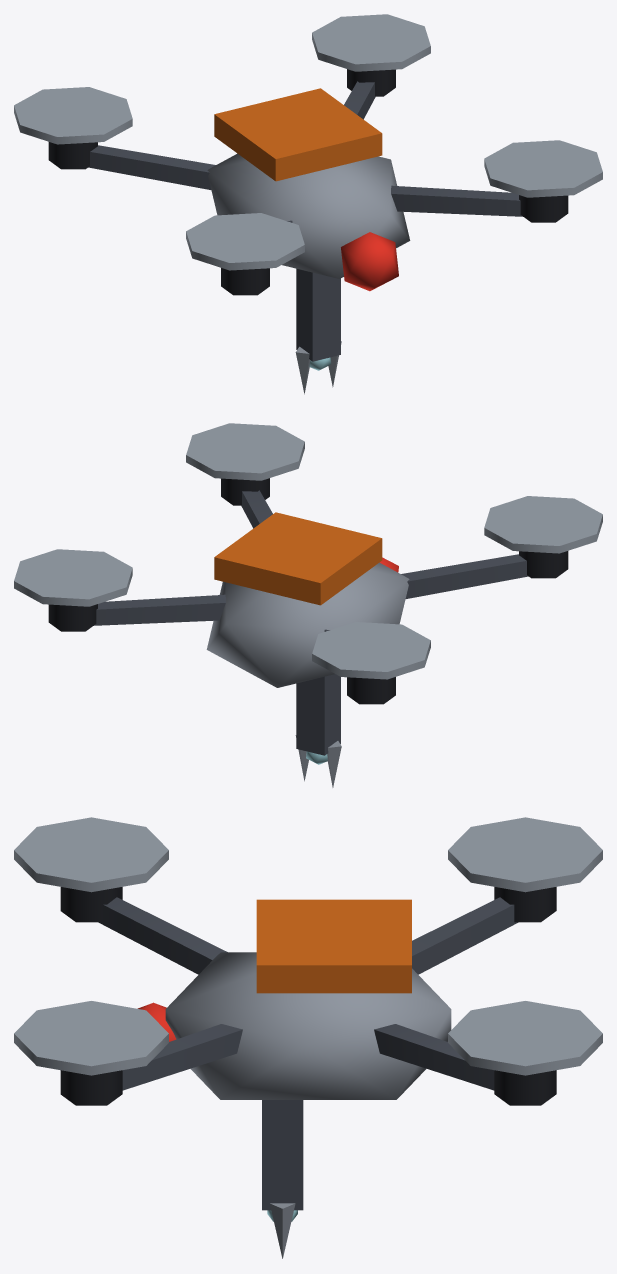
File: e_maschinen_drohne.glb
3 views of the same model, one above another, from view 1: azimuth 30°, elevation 25°; view 2: azimuth 150°, elevation 25°; view 3: azimuth 270°, elevation 25° (orthographic). The views are drawn at different scales.
Parts seen in each view (by area): view 1: body; view 2: body; view 3: body.
Part boxes in pixels (bbox=[...]): body: bbox=[14, 14, 602, 394]; body: bbox=[14, 423, 602, 787]; body: bbox=[14, 817, 602, 1258].
Bounding box in the file's own units: 1.42 × 0.85 × 1.42.
